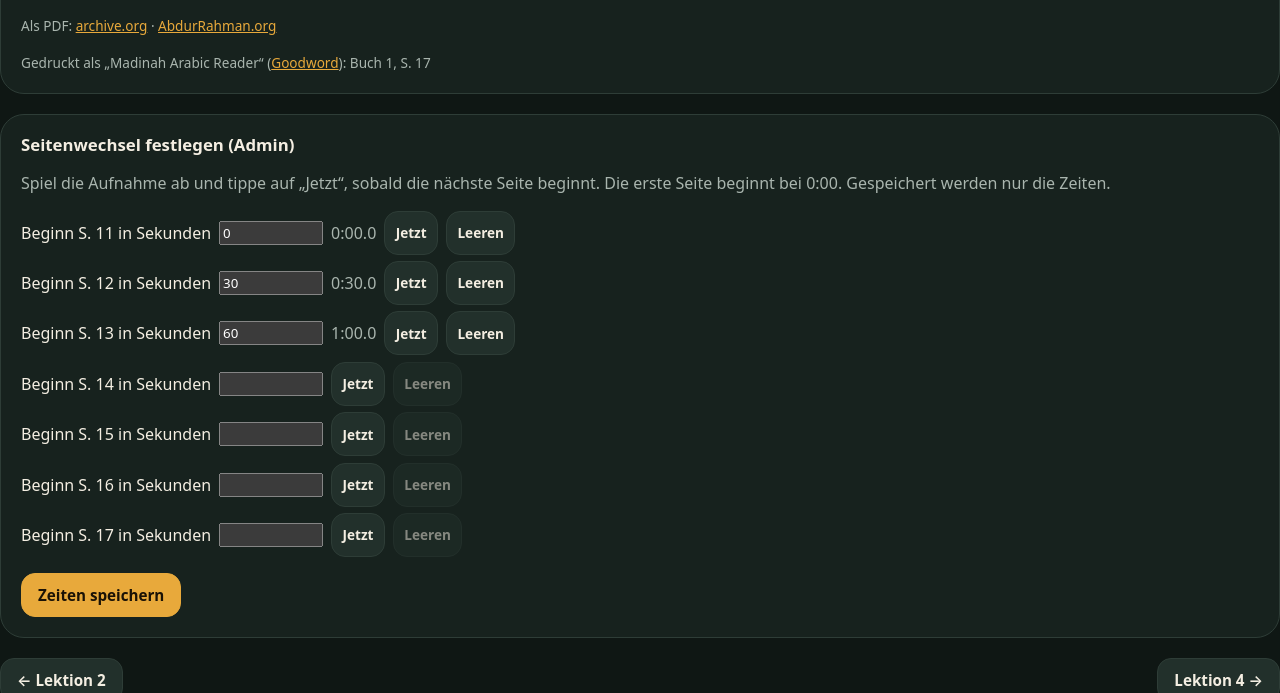
Test: Medina book follows the recording › refuses page turns out of the recording order
(page scrolled)
Replace the text in the number field labelled "Beginn S. 13 in Sekunden" with "10" at {"x": 271, "y": 333}, box x1=219 y1=321 x2=323 y2=345
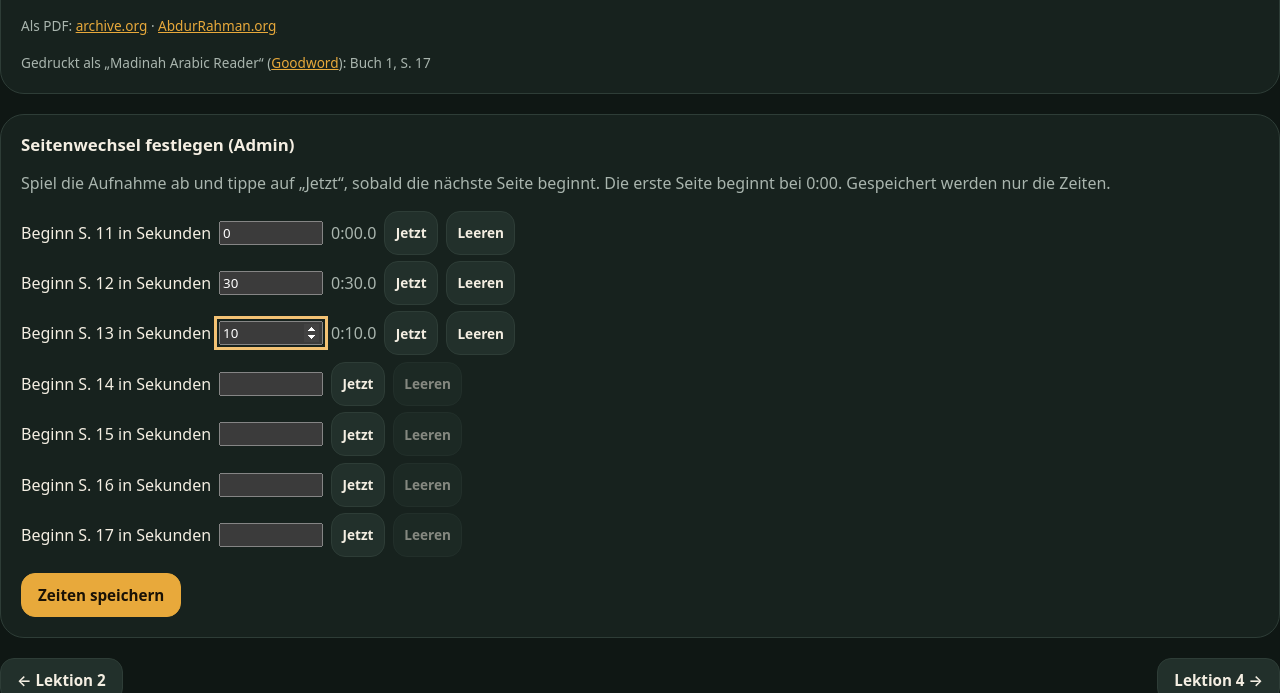
Click the button "Zeiten speichern" at {"x": 101, "y": 595}, box x1=21 y1=573 x2=181 y2=617
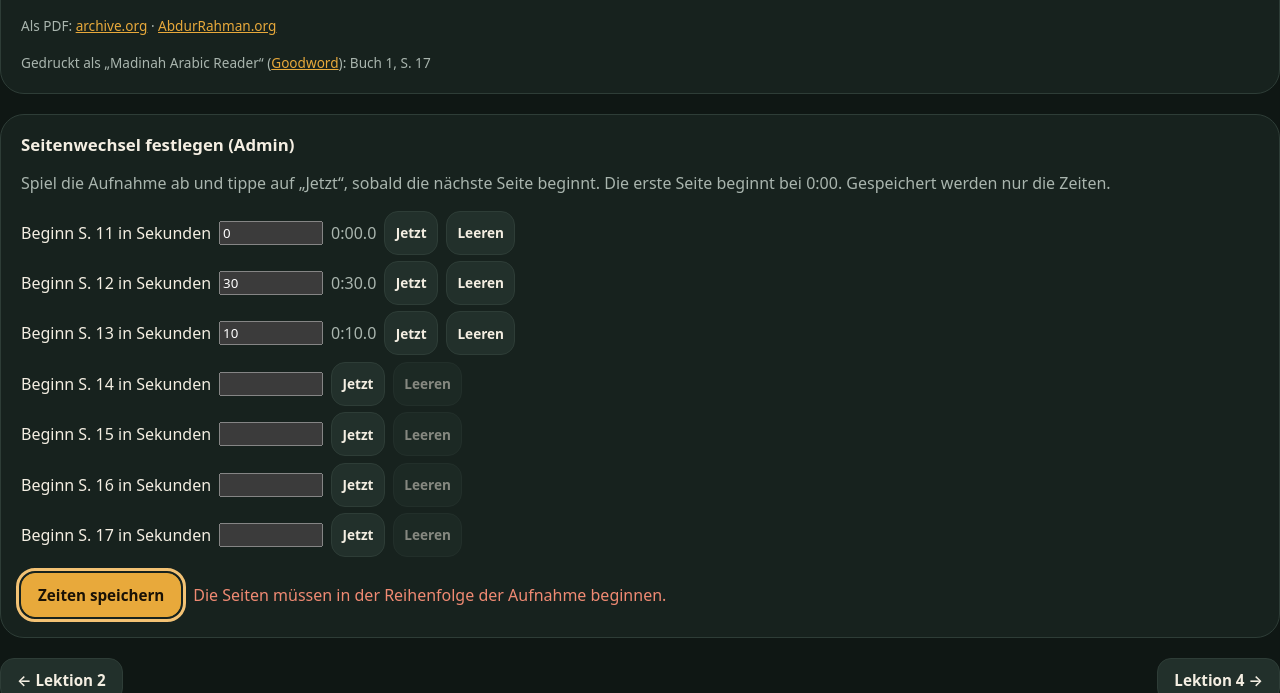
Result: the text "Die Seiten müssen in der Reihenfolge der Aufnahme beginnen." is shown at x1=193 y1=583 x2=666 y2=607
